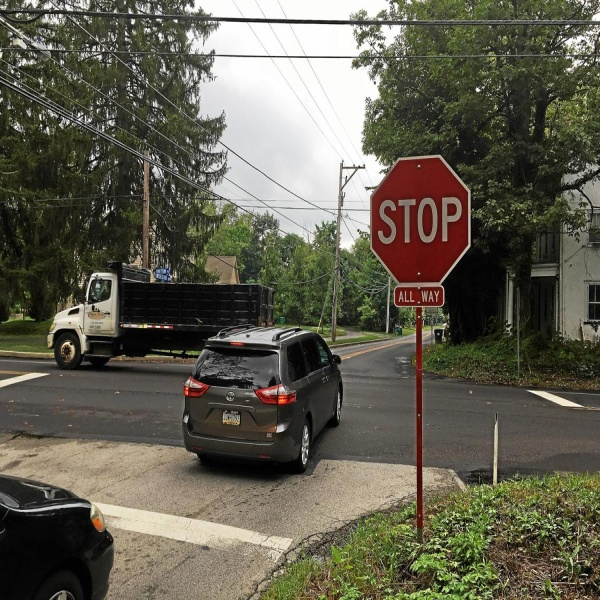stop: (369, 159, 470, 288)
